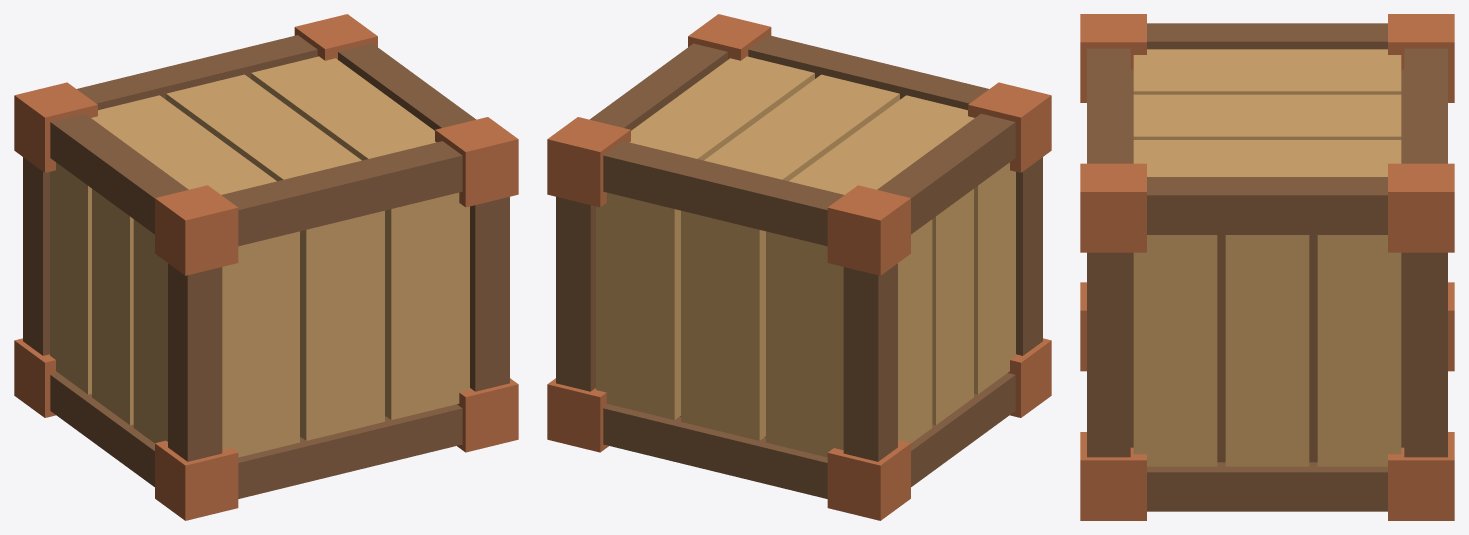
File: crate.lod1.glb
The picture shows the model from 3 angles, left to right: view 1: azimuth 30°, elevation 25°; view 2: azimuth 150°, elevation 25°; view 3: azimuth 270°, elevation 25°; orthographic projection. The views are drawn at different scales.
Parts seen in each view (by area): view 1: crate_lod1; view 2: crate_lod1; view 3: crate_lod1.
Boxes of the visible parts, x1,y1,x2,y2 form: crate_lod1: [14, 14, 518, 520]; crate_lod1: [547, 14, 1051, 520]; crate_lod1: [1080, 14, 1454, 520].
Size of the model in its own units: 0.724 by 0.624 by 0.644.
